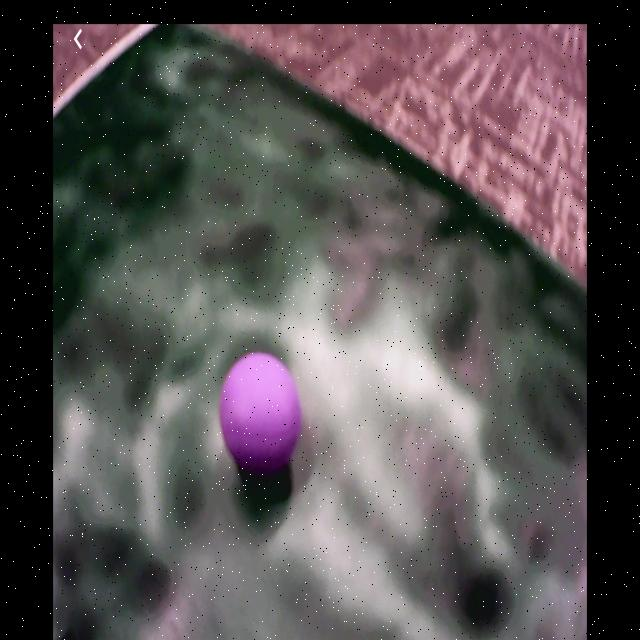ball: (222, 354, 301, 466)
